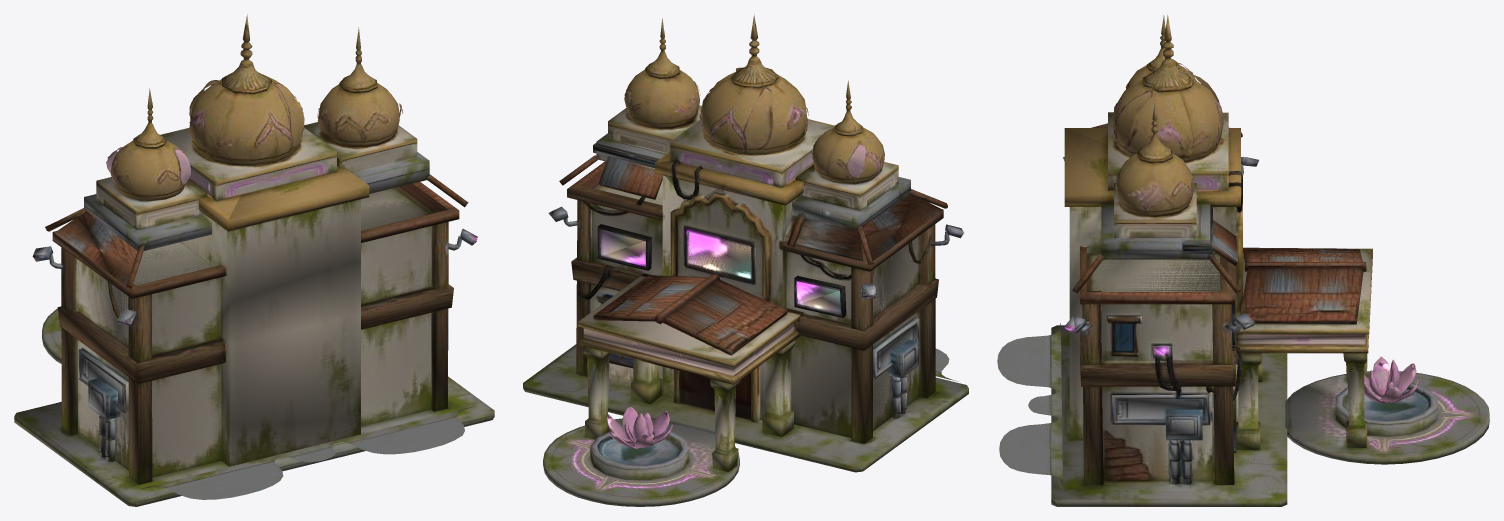
The model's file is border_casino.glb.
3 renders of one model, left to right at view 1: azimuth 30°, elevation 25°; view 2: azimuth 150°, elevation 25°; view 3: azimuth 270°, elevation 25°, orthographic. The views are drawn at different scales.
Visible parts, largest first — view 1: Body, Glow; view 2: Body, Glow; view 3: Body, Glow.
Part boxes in pixels (x1=…): Body: x1=14, y1=14, x2=494, y2=506; Glow: x1=116, y1=105, x2=477, y2=241; Body: x1=523, y1=14, x2=968, y2=506; Glow: x1=602, y1=119, x2=879, y2=426; Body: x1=997, y1=15, x2=1489, y2=506; Glow: x1=1064, y1=128, x2=1389, y2=369.
Bounding box in the file's own units: 28 × 29.54 × 32.89.
2 materials, 2 textured.
